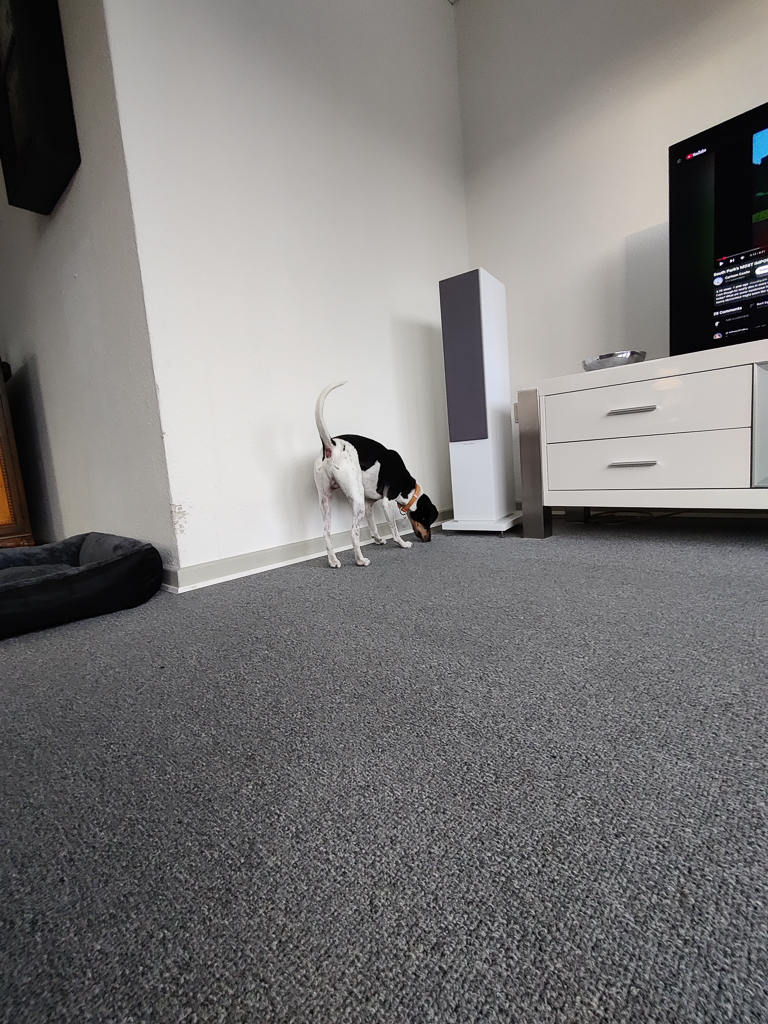Dog: (296, 370, 451, 578)
